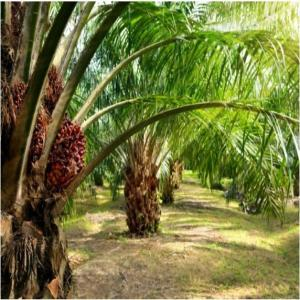palm tree: (0, 1, 299, 298)
